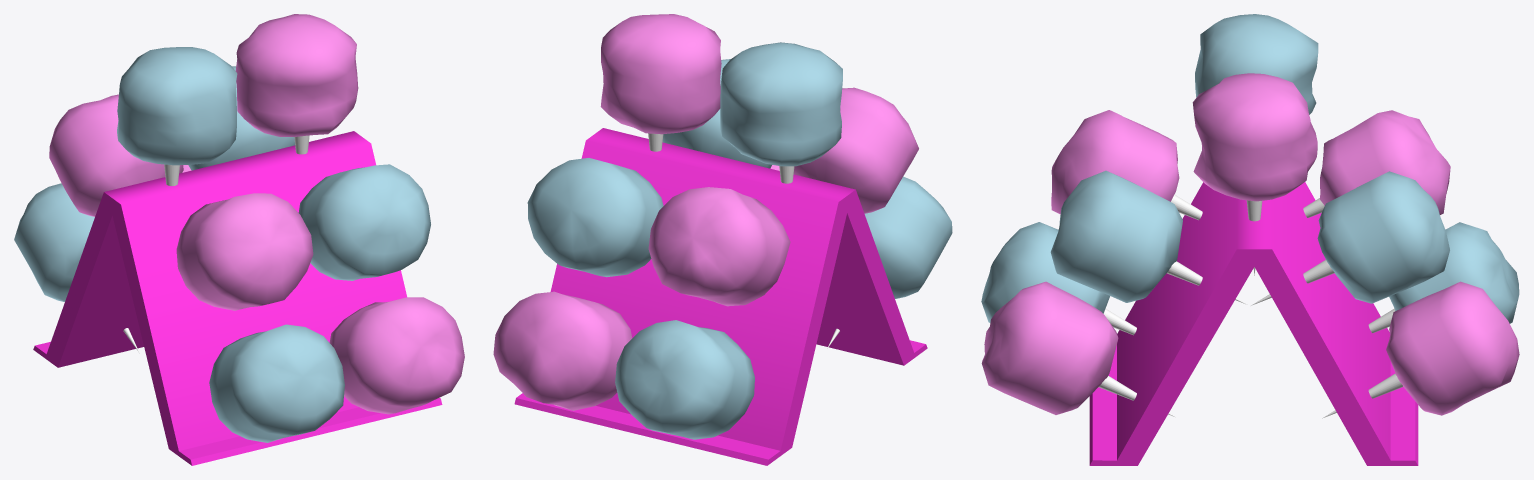
Rendered from Prop_CottonCandy.fbx.
The picture shows the model from 3 angles, left to right: view 1: azimuth 30°, elevation 25°; view 2: azimuth 150°, elevation 25°; view 3: azimuth 270°, elevation 25°; orthographic projection. The views are drawn at different scales.
Visible parts, largest first — view 1: Cotton Candy Set B, Display, Cone; view 2: Cotton Candy Set B, Display, Cone; view 3: Cotton Candy Set B, Display, Cone.
Part boxes in pixels (<box>): Cotton Candy Set B: <box>14,14,464,442</box>; Display: <box>33,131,442,465</box>; Cone: <box>123,135,309,352</box>; Cotton Candy Set B: <box>493,14,952,439</box>; Display: <box>514,128,927,465</box>; Cone: <box>648,133,839,348</box>; Cotton Candy Set B: <box>981,14,1519,415</box>; Display: <box>1089,182,1418,465</box>; Cone: <box>1098,194,1402,418</box>.
Size of the model in its own units: 50 by 64.62 by 90.06.
